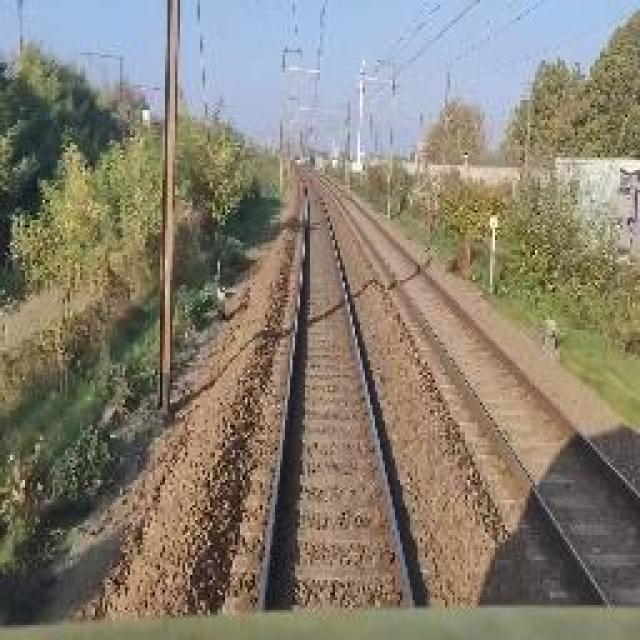rail: (229, 172, 444, 614)
